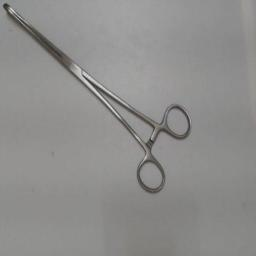Sponge Forceps: (1, 0, 199, 200)
